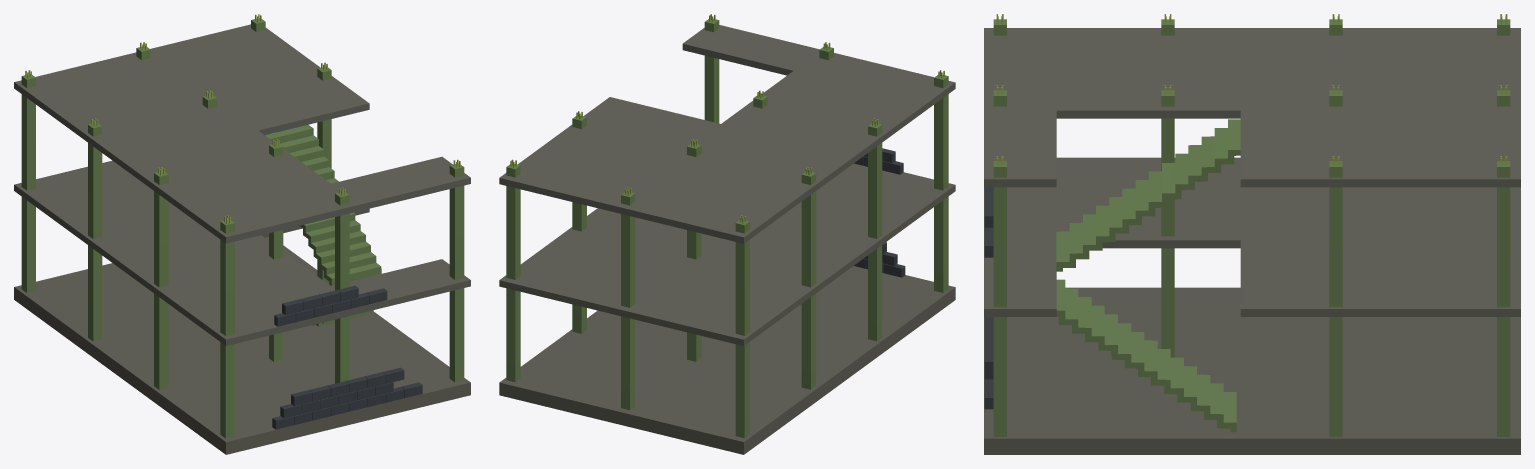
The model's file is Construction_01.fbx.
3 renders of one model, left to right at view 1: azimuth 30°, elevation 25°; view 2: azimuth 150°, elevation 25°; view 3: azimuth 270°, elevation 25°, orthographic. The views are drawn at different scales.
Parts seen in each view (by area): view 1: Construction_01; view 2: Construction_01; view 3: Construction_01.
Part boxes in pixels (x1,y1,x2,y2): Construction_01: [14, 14, 470, 454]; Construction_01: [499, 14, 955, 454]; Construction_01: [984, 14, 1520, 454].
Bounding box in the file's own units: 8 × 7.23 × 12.
